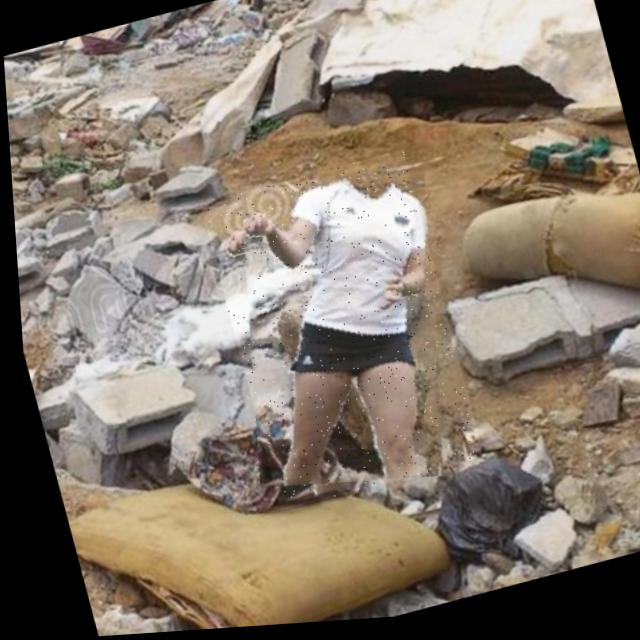Person in Rubble: (195, 152, 480, 517)
